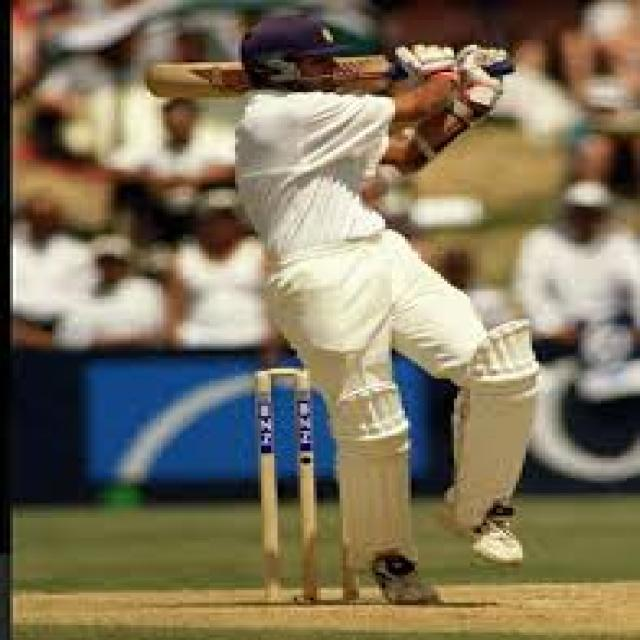toe: (136, 56, 168, 100)
